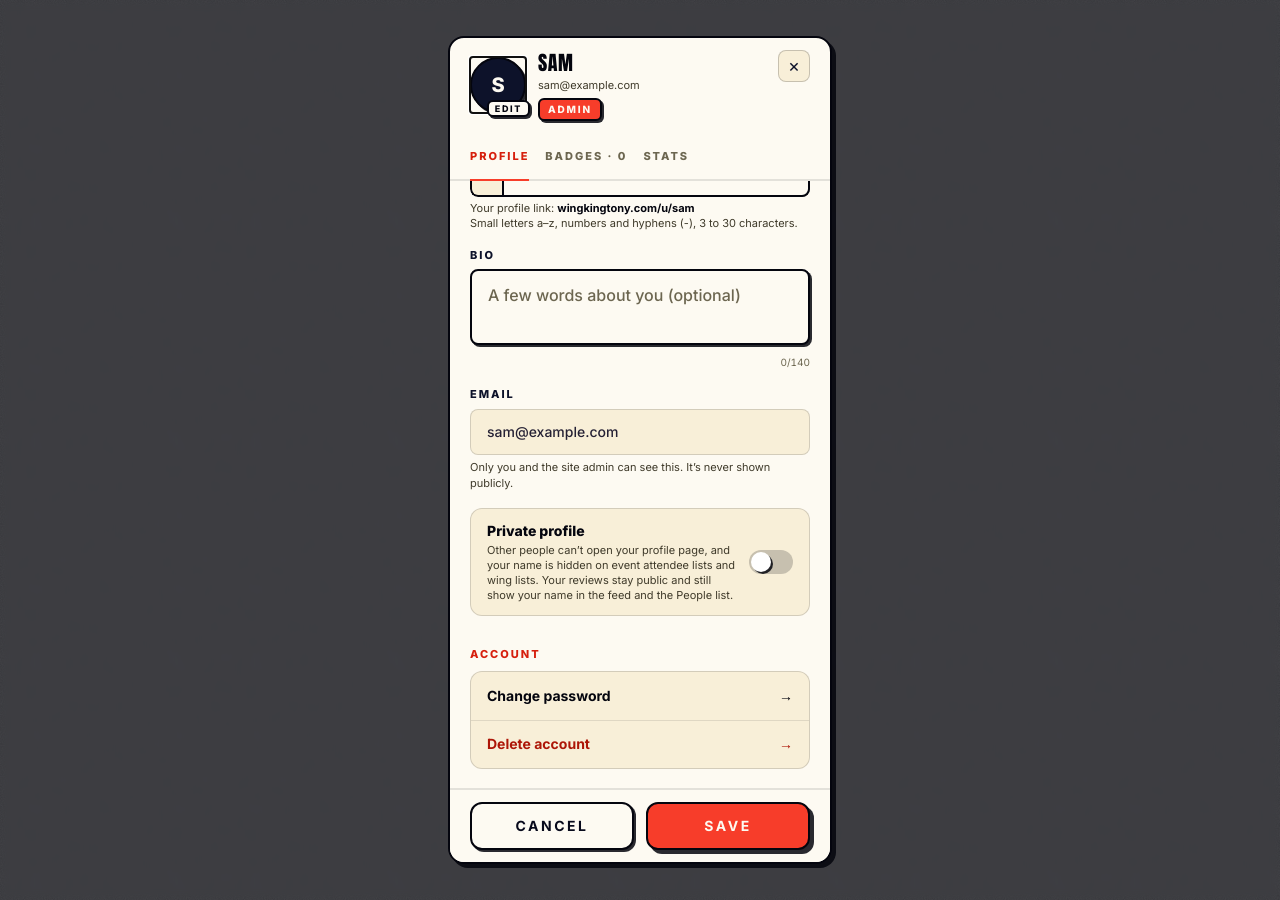
Test: ProfileModal › does not let an admin delete their account here
The width and height of the screenshot is (1280, 900).
(page scrolled)
Click the button "Delete account →" at (538, 744), box [471,720,809,768]
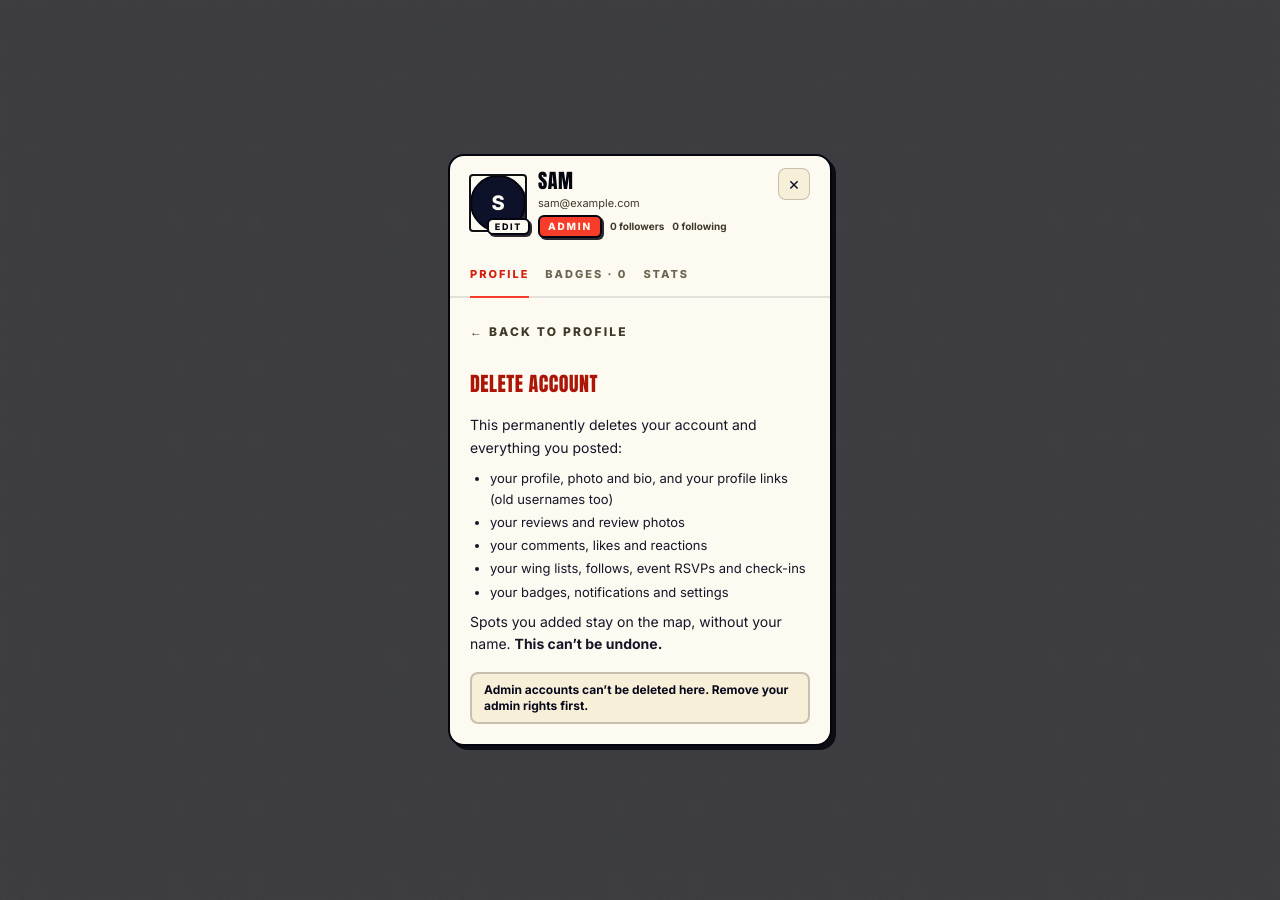
Result: the text "Admin accounts can’t be deleted here" is shown at [484,682,788,713]
